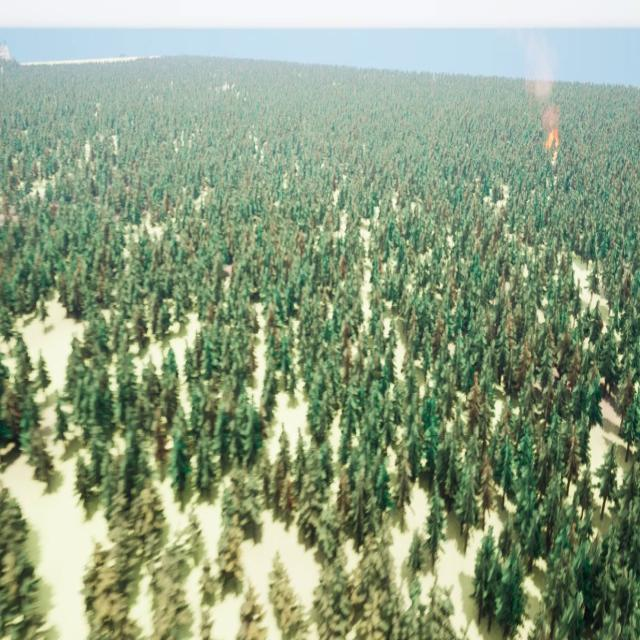fire: (545, 129, 560, 163)
smoke: (522, 37, 561, 130)
